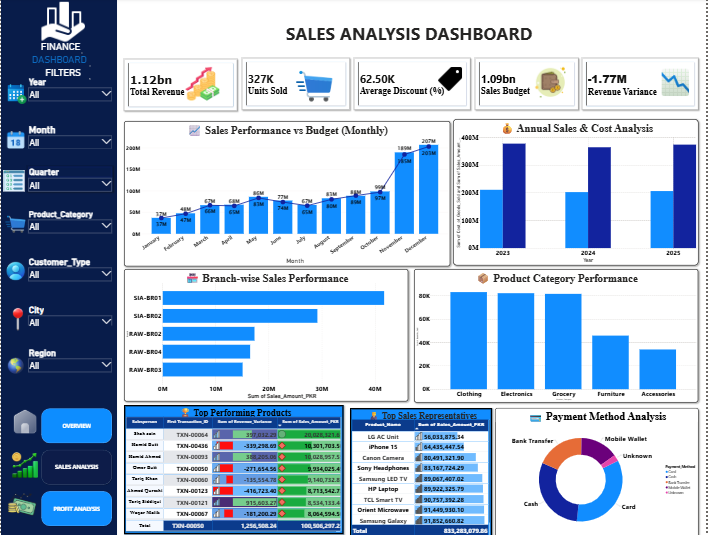

What the dashboard file says about the page in this screenshot:
{"tool":"powerbi","page":{"name":"SALES ANALYSIS","canvas":[5238,4012],"ordinal":1},"visuals":[{"type":"shape","box":[0,-20,864,4032],"z":0},{"type":"image","box":[128,0,672,352],"z":1000},{"type":"textbox","title":"FINANCE","box":[288,320,320,96],"z":2000},{"type":"textbox","title":"DASHBOARD","box":[224,416,448,96],"z":3000},{"type":"pageNavigator","box":[288,3040,544,896],"z":4000},{"type":"textbox","title":"FILTERS","box":[256,512,416,96],"z":5000},{"type":"slicer","fields":{"Values":["Financial_Performance_Overview.Quarter"]},"box":[192,1248,640,192],"z":6000},{"type":"slicer","fields":{"Values":["Financial_Performance_Overview.Year"]},"box":[192,576,640,192],"z":7000},{"type":"slicer","fields":{"Values":["Financial_Performance_Overview.Product_Category"]},"box":[192,1568,640,288],"z":8000},{"type":"image","box":[64,3040,224,224],"z":9000},{"type":"image","box":[64,3360,224,224],"z":10000},{"type":"image","box":[32,3616,256,288],"z":11000},{"type":"slicer","fields":{"Values":["Financial_Performance_Overview.Region"]},"box":[192,2592,640,256],"z":12000},{"type":"cardVisual","fields":{"Data":["Sum(Financial_Performance_Overview.Actual_Revenue)"]},"box":[912,456,840,384],"z":13000},{"type":"cardVisual","fields":{"Data":["Sum(Financial_Performance_Overview.Quantity_Sold)"]},"box":[1792,448,800,384],"z":14000},{"type":"cardVisual","fields":{"Data":["Sum(Financial_Performance_Overview.Discount_%)"]},"box":[2624,448,864,384],"z":15000},{"type":"cardVisual","fields":{"Data":["Sum(Financial_Performance_Overview.Budget)"]},"box":[3520,448,768,384],"z":16000},{"type":"cardVisual","fields":{"Data":["Sum(Financial_Performance_Overview.Revenue_Variance)"]},"box":[4320,448,864,384],"z":17000},{"type":"donutChart","title":"💳 Payment Method Analysis","fields":{"Category":["Financial_Performance_Overview.Payment_Method"],"Y":["CountNonNull(Financial_Performance_Overview.Transaction_ID)"]},"box":[3672,3048,1512,960],"z":18000},{"type":"lineClusteredColumnComboChart","title":"📈 Sales Performance vs Budget (Monthly)","fields":{"Category":["Financial_Performance_Overview.Date.Variation.Date Hierarchy.Month"],"Y":["Sum(Financial_Performance_Overview.Sales_Amount_PKR)"],"Y2":["Sum(Financial_Performance_Overview.Budget)"]},"box":[912,912,2424,1080],"z":19000},{"type":"clusteredColumnChart","title":"💰 Annual Sales & Cost Analysis","fields":{"Category":["Financial_Performance_Overview.Year"],"Y":["Sum(Financial_Performance_Overview.Cost_of_Goods_Sold)","Sum(Financial_Performance_Overview.Sales_Amount_PKR)"]},"box":[3360,896,1824,1088],"z":20000},{"type":"clusteredBarChart","title":"🏪 Branch-wise Sales Performance","fields":{"Category":["Financial_Performance_Overview.Branch"],"Y":["Sum(Financial_Performance_Overview.Sales_Amount_PKR)"]},"box":[912,2016,2112,984],"z":21000},{"type":"clusteredColumnChart","title":"📦 Product Category Performance","fields":{"Category":["Financial_Performance_Overview.Product_Category"],"Y":["Sum(Financial_Performance_Overview.Quantity_Sold)"]},"box":[3072,2016,2112,992],"z":22000},{"type":"tableEx","title":"👨💼 Top Sales Representatives","fields":{"Values":["Financial_Performance_Overview.Product_Name","Sum(Financial_Performance_Overview.Sales_Amount_PKR)"]},"box":[2592,3048,1056,960],"z":23000},{"type":"pivotTable","title":"🏆 Top Performing Products","fields":{"Rows":["Financial_Performance_Overview.Salesperson"],"Values":["Min(Financial_Performance_Overview.Transaction_ID)","Sum(Financial_Performance_Overview.Revenue_Variance)","Sum(Financial_Performance_Overview.Sales_Amount_PKR)"]},"box":[912,3024,1632,960],"z":24000},{"type":"slicer","fields":{"Values":["Financial_Performance_Overview.City"]},"box":[192,2272,640,160],"z":25000},{"type":"slicer","fields":{"Values":["Financial_Performance_Overview.Customer_Type"]},"box":[192,1920,640,192],"z":26000},{"type":"image","box":[1296,504,408,264],"z":27000},{"type":"image","box":[3216,504,240,192],"z":28000},{"type":"image","box":[3936,480,288,288],"z":29000},{"type":"image","box":[4864,480,288,288],"z":30000},{"type":"image","box":[32,576,160,256],"z":31000},{"type":"image","box":[32,2656,160,160],"z":32000},{"type":"image","box":[32,1920,160,224],"z":33000},{"type":"image","box":[32,2272,192,224],"z":34000},{"type":"textbox","box":[2112,168,2112,216],"z":35000},{"type":"image","box":[0,1600,224,160],"z":37000},{"type":"slicer","fields":{"Values":["Financial_Performance_Overview.Date.Variation.Date Hierarchy.Month"]},"box":[192,928,640,192],"z":38000},{"type":"image","box":[32,960,160,192],"z":39000},{"type":"image","box":[0,1280,192,160],"z":40000},{"type":"image","box":[2136,504,408,288],"z":41000}]}

Visuals, with their boxes in screenshot pixels (x1, y1, x2, y2), scaled from the page's 5238x4012 canvas onto the 708x535 screenshot:
shape: x1=0 y1=0 x2=117 y2=534
image: x1=17 y1=0 x2=108 y2=47
"FINANCE" textbox: x1=39 y1=43 x2=82 y2=55
"DASHBOARD" textbox: x1=30 y1=55 x2=91 y2=68
pageNavigator: x1=39 y1=405 x2=112 y2=525
"FILTERS" textbox: x1=35 y1=68 x2=91 y2=81
slicer - Financial_Performance_Overview.Quarter: x1=26 y1=166 x2=112 y2=192
slicer - Financial_Performance_Overview.Year: x1=26 y1=77 x2=112 y2=102
slicer - Financial_Performance_Overview.Product_Category: x1=26 y1=209 x2=112 y2=247
image: x1=9 y1=405 x2=39 y2=435
image: x1=9 y1=448 x2=39 y2=478
image: x1=4 y1=482 x2=39 y2=521
slicer - Financial_Performance_Overview.Region: x1=26 y1=346 x2=112 y2=380
cardVisual - Sum(Financial_Performance_Overview.Actual_Revenue): x1=123 y1=61 x2=237 y2=112
cardVisual - Sum(Financial_Performance_Overview.Quantity_Sold): x1=242 y1=60 x2=350 y2=111
cardVisual - Sum(Financial_Performance_Overview.Discount_%): x1=355 y1=60 x2=471 y2=111
cardVisual - Sum(Financial_Performance_Overview.Budget): x1=476 y1=60 x2=580 y2=111
cardVisual - Sum(Financial_Performance_Overview.Revenue_Variance): x1=584 y1=60 x2=701 y2=111
"💳 Payment Method Analysis" donutChart: x1=496 y1=406 x2=701 y2=534
"📈 Sales Performance vs Budget (Monthly)" lineClusteredColumnComboChart: x1=123 y1=122 x2=451 y2=266
"💰 Annual Sales & Cost Analysis" clusteredColumnChart: x1=454 y1=119 x2=701 y2=265
"🏪 Branch-wise Sales Performance" clusteredBarChart: x1=123 y1=269 x2=409 y2=400
"📦 Product Category Performance" clusteredColumnChart: x1=415 y1=269 x2=701 y2=401
"👨💼 Top Sales Representatives" tableEx: x1=350 y1=406 x2=493 y2=534
"🏆 Top Performing Products" pivotTable: x1=123 y1=403 x2=344 y2=531
slicer - Financial_Performance_Overview.City: x1=26 y1=303 x2=112 y2=324
slicer - Financial_Performance_Overview.Customer_Type: x1=26 y1=256 x2=112 y2=282
image: x1=175 y1=67 x2=230 y2=102
image: x1=435 y1=67 x2=467 y2=93
image: x1=532 y1=64 x2=571 y2=102
image: x1=657 y1=64 x2=696 y2=102
image: x1=4 y1=77 x2=26 y2=111
image: x1=4 y1=354 x2=26 y2=376
image: x1=4 y1=256 x2=26 y2=286
image: x1=4 y1=303 x2=30 y2=333
textbox: x1=285 y1=22 x2=571 y2=51
image: x1=0 y1=213 x2=30 y2=235
slicer - Financial_Performance_Overview.Date.Variation.Date Hierarchy.Month: x1=26 y1=124 x2=112 y2=149
image: x1=4 y1=128 x2=26 y2=154
image: x1=0 y1=171 x2=26 y2=192
image: x1=289 y1=67 x2=344 y2=106
